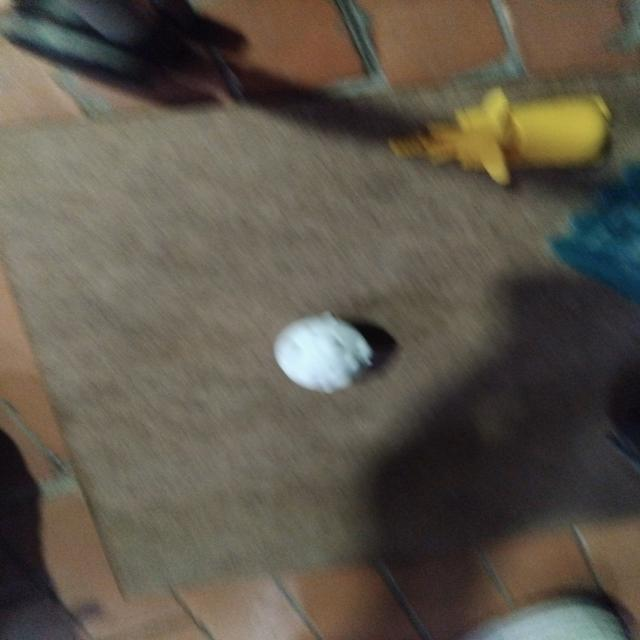Hongo: (260, 306, 386, 393)
